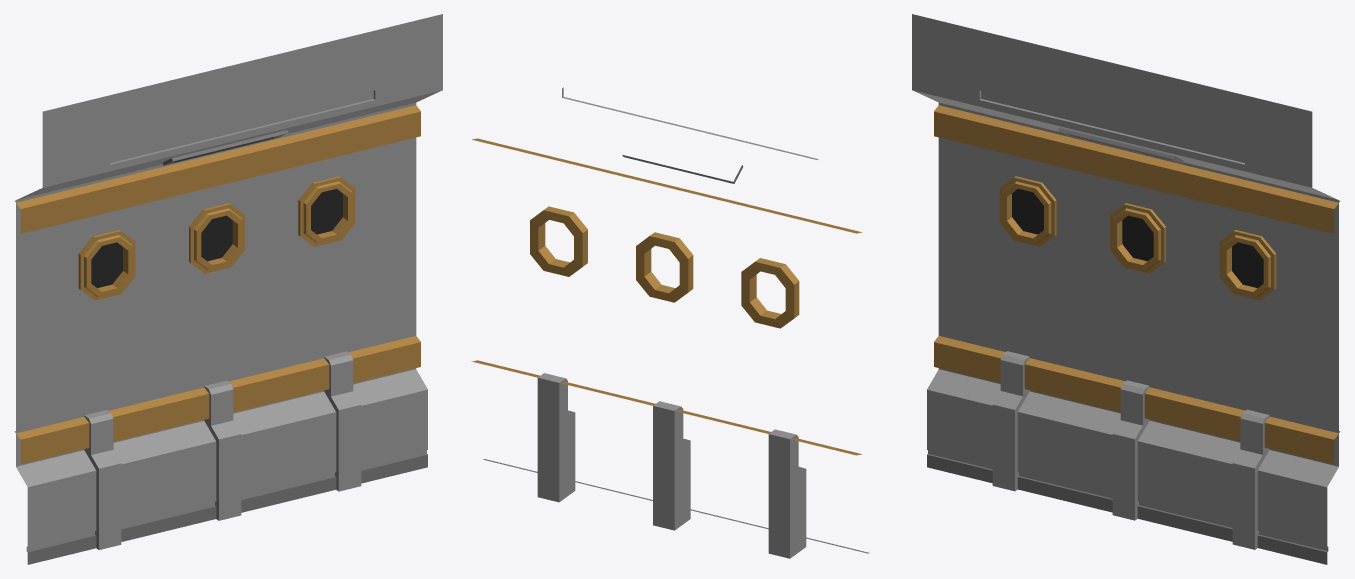
The model's file is SmallWindows_Wall_SideB.glb.
3 renders of one model, left to right at view 1: azimuth 30°, elevation 25°; view 2: azimuth 150°, elevation 25°; view 3: azimuth 330°, elevation 25°, orthographic. The views are drawn at different scales.
Visible parts, largest first — view 1: SmallWindows_Wall_SideB_Plane.039; view 2: SmallWindows_Wall_SideB_Plane.039; view 3: SmallWindows_Wall_SideB_Plane.039.
Boxes of the visible parts, x1,y1,x2,y2 form: SmallWindows_Wall_SideB_Plane.039: [14, 14, 442, 564]; SmallWindows_Wall_SideB_Plane.039: [471, 87, 869, 558]; SmallWindows_Wall_SideB_Plane.039: [912, 14, 1340, 564].
Bounding box in the file's own units: 4 × 4.43 × 0.5261.
